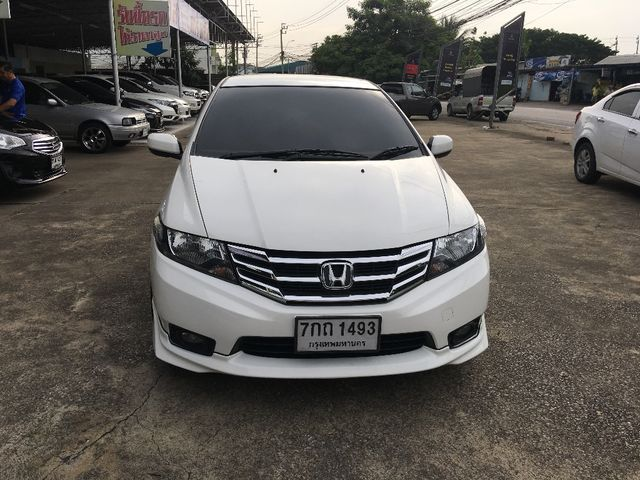sedan: (144, 73, 493, 384)
